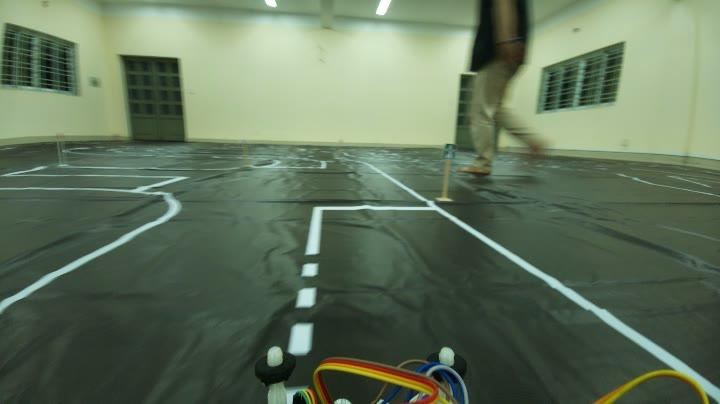highway_exit: (436, 138, 459, 164)
